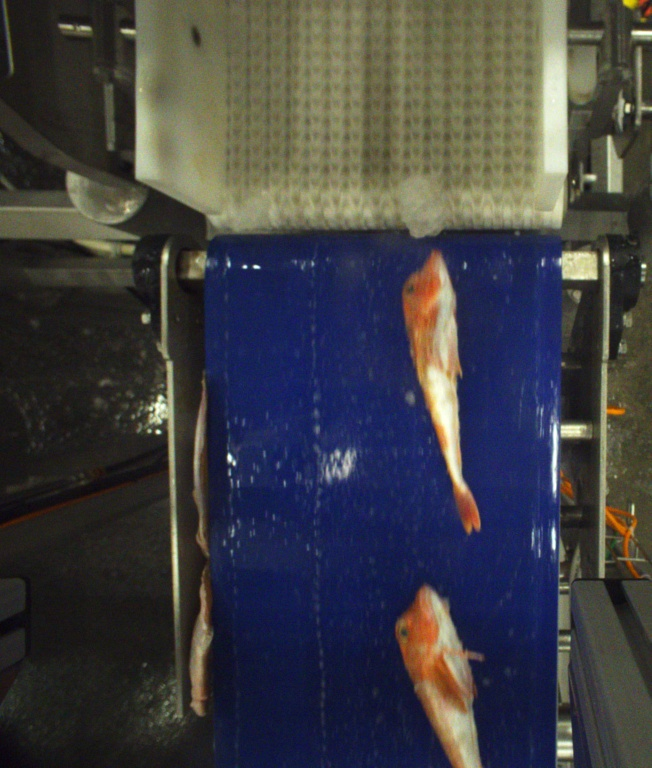GUU: (394, 586, 484, 768)
